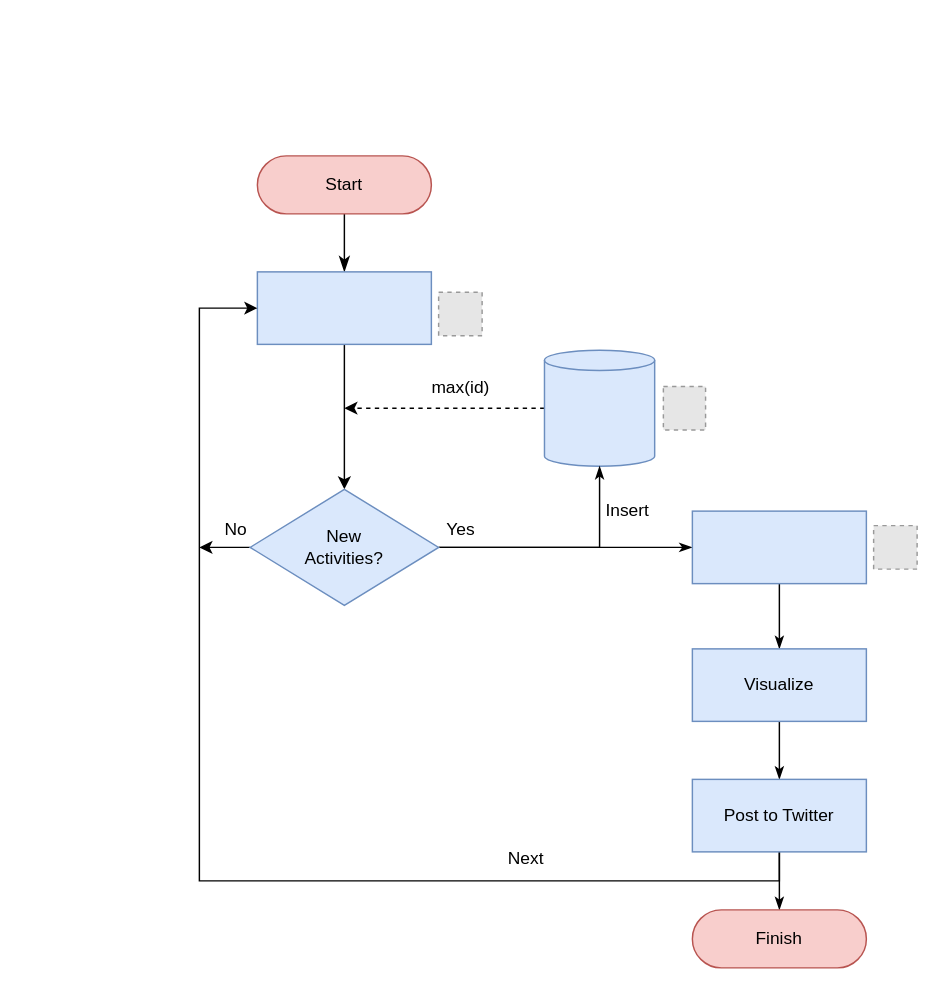
Image size: 943x993. Some labels were removed from this diagram. Grey dashed boxes stand in for pictures. Here are the shapes that lost their labels. From the top down, the centre of each, then its label:
At point (343, 307): "Get Atlete's Recent Activity List".
At point (599, 407): "Activity Table".
At point (778, 547): "Get Activity Detail".
